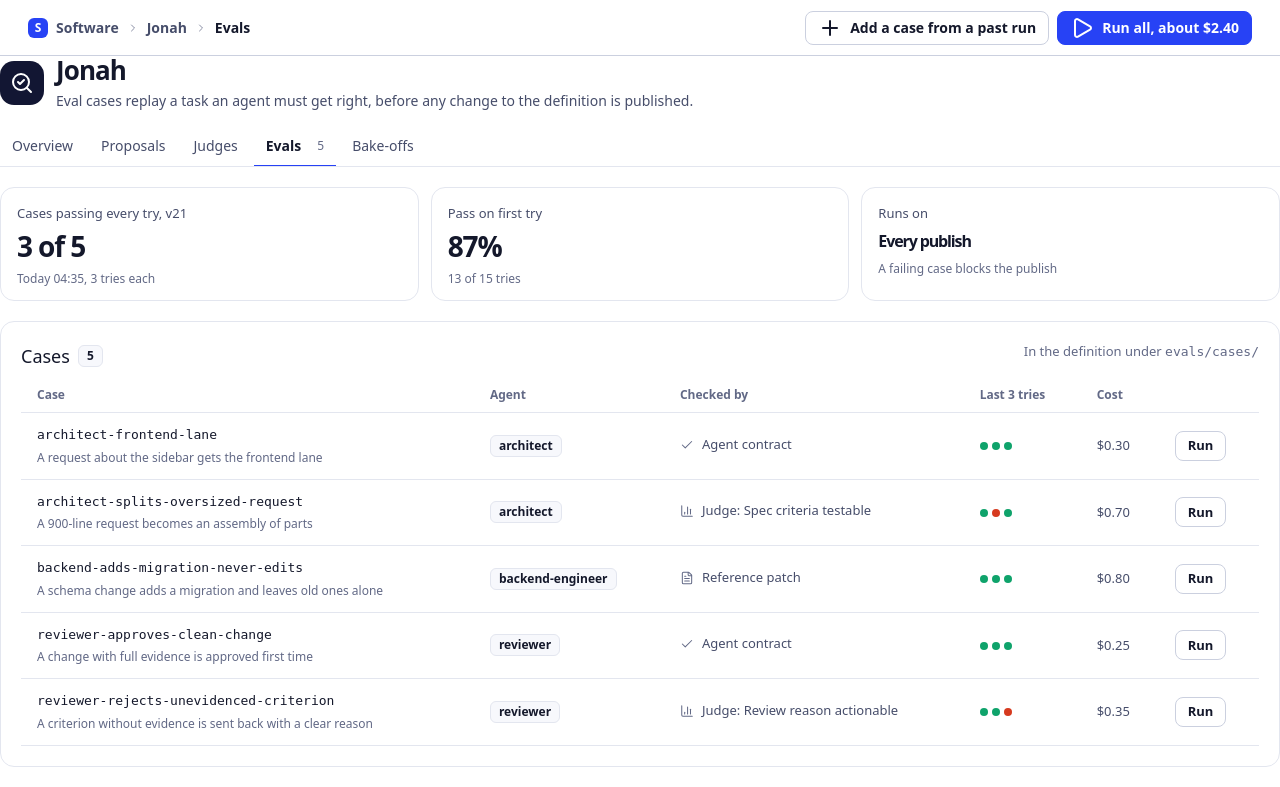
Test: adding a case from a past run › adds the case with its run, name and tries, and closes
The image size is (1280, 787).
Expected: the table is shown, [21,386,1259,746]
Click the button "Add a case from a past run".
click(927, 28)  # box [805,10,1049,44]
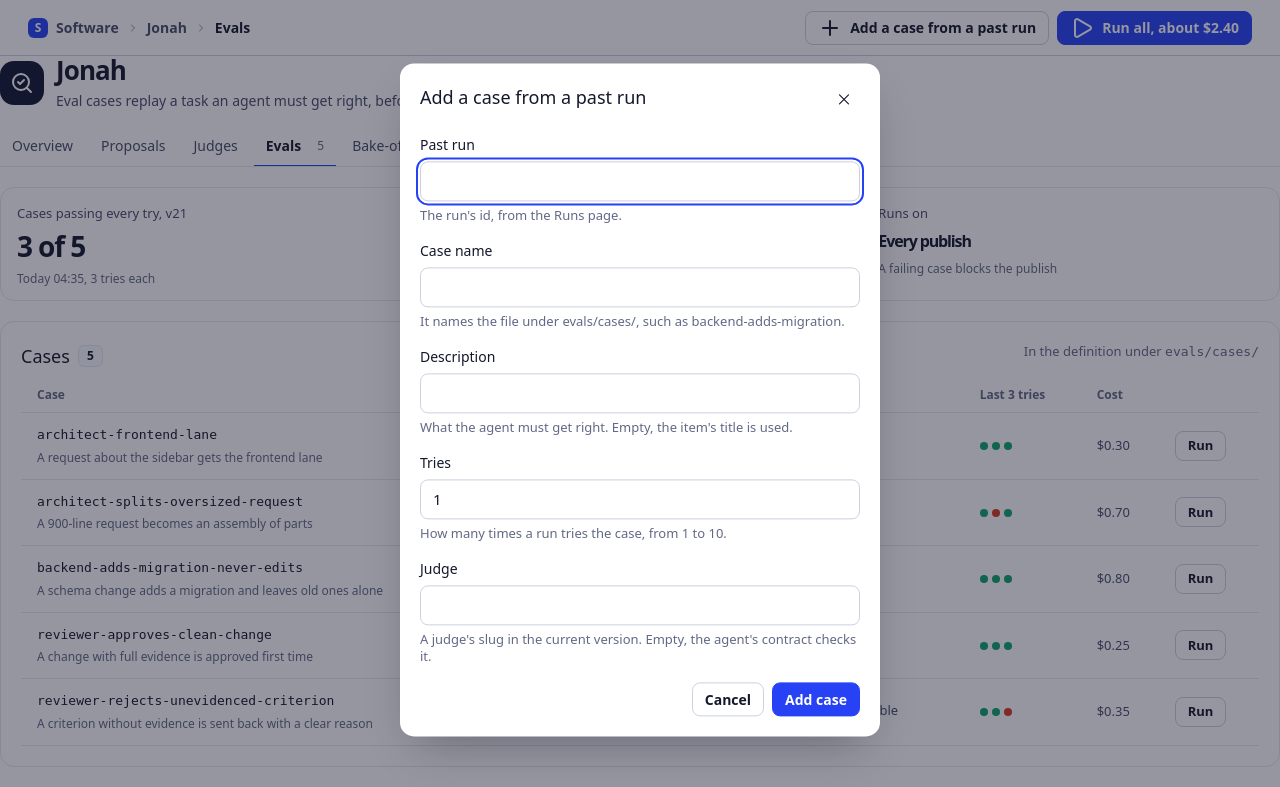
Type "run-41" into the field labelled "Past run".
click(640, 181); type("run-41")  # box [420,161,860,201]
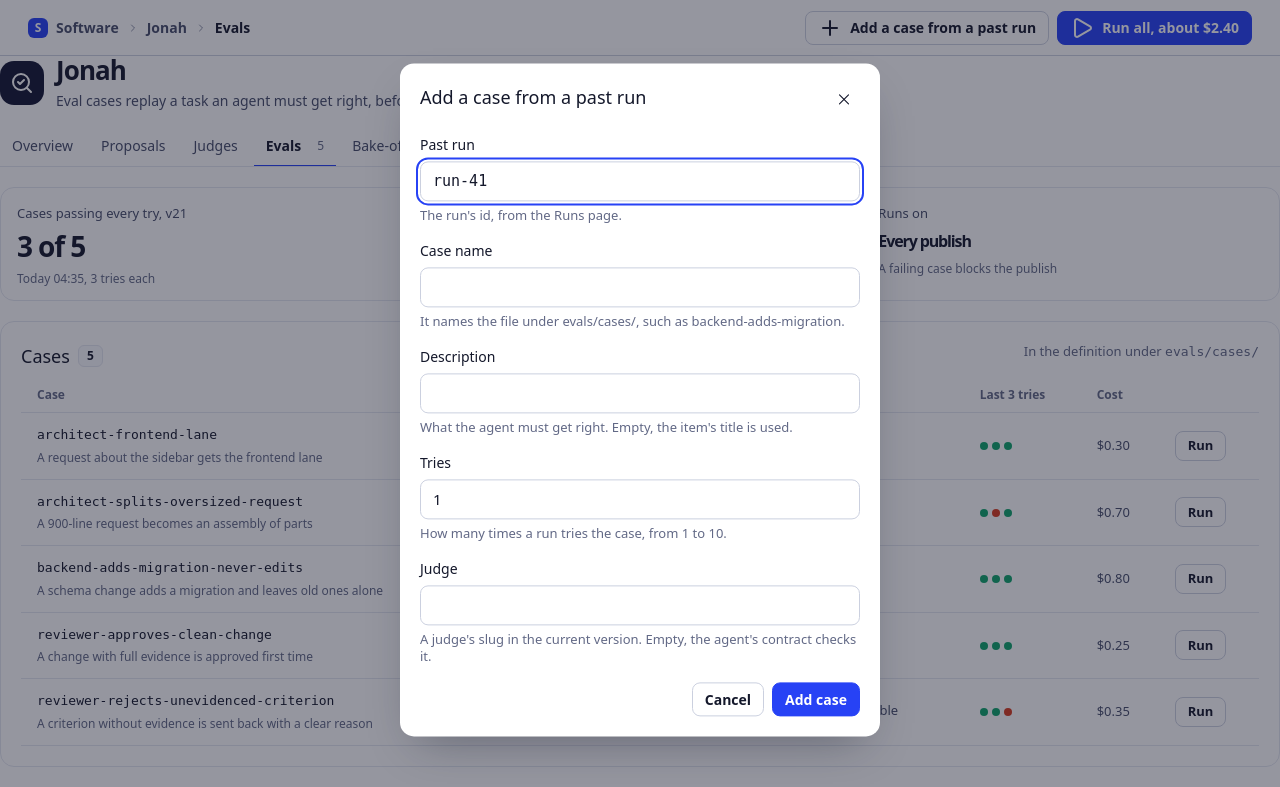
Type "reviewer-misses-tests" into the field labelled "Case name".
click(640, 287); type("reviewer-misses-tests")  # box [420,267,860,307]
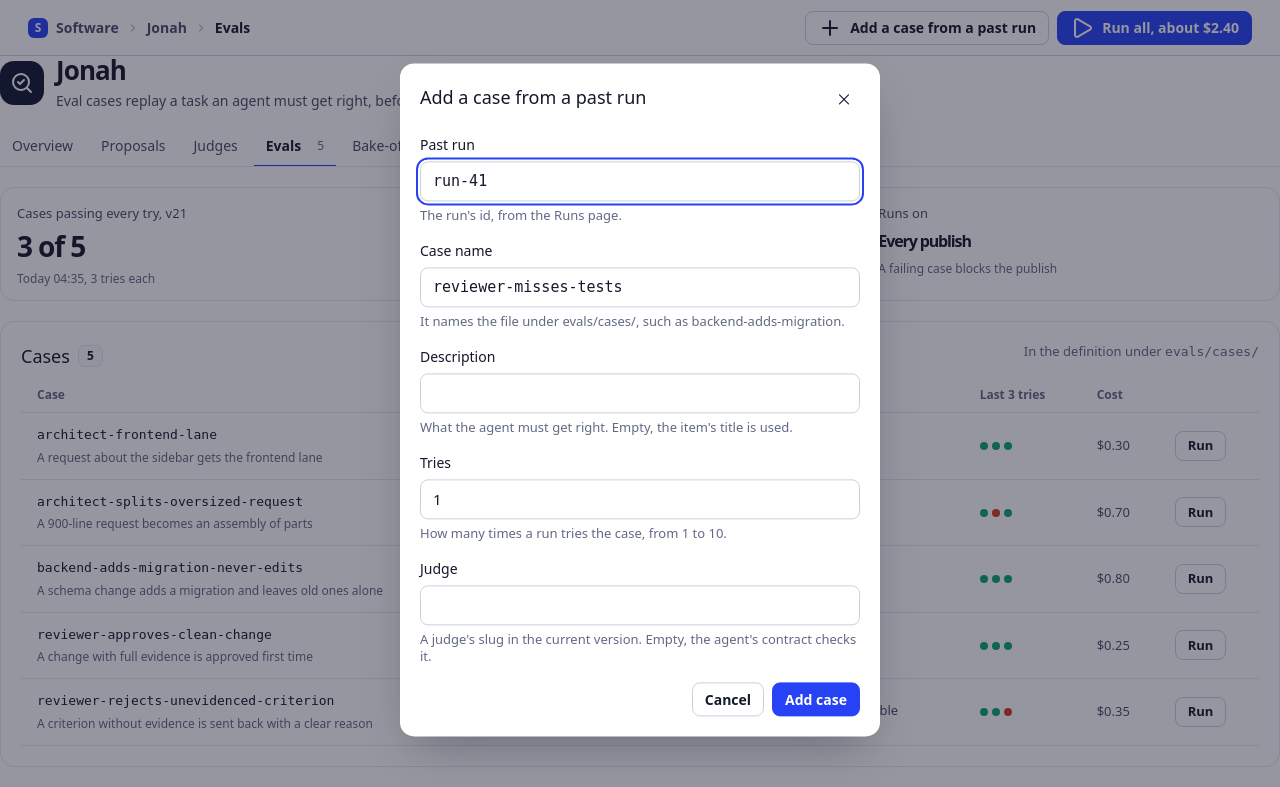
Click the button "Add case".
click(816, 700)  # box [772,683,860,717]
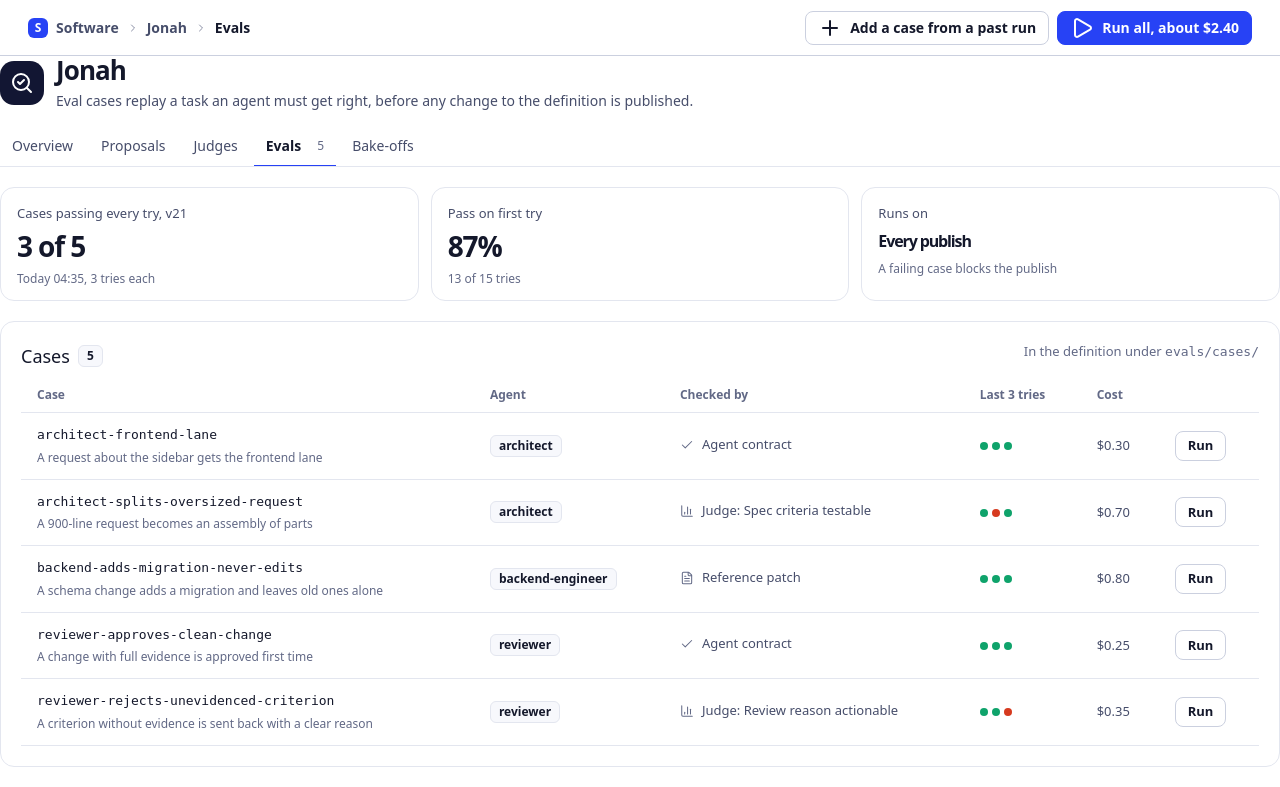
Expected: the dialog is gone
